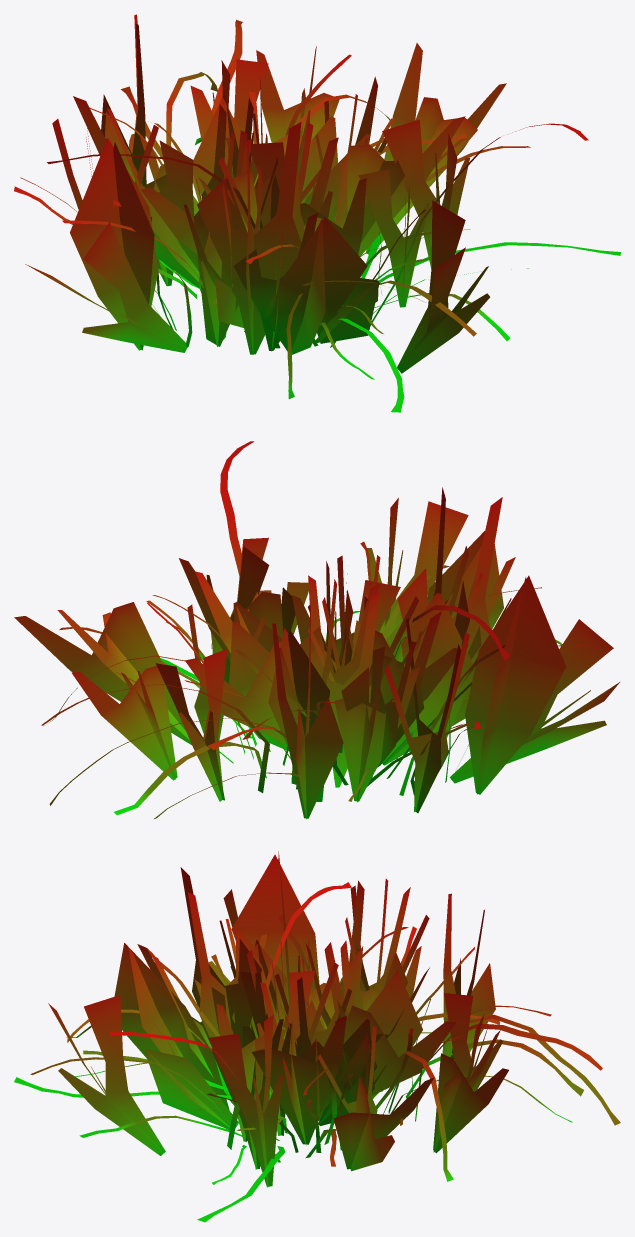
Rendered from Red_Plant_Var_4_LODs.fbx.
3 renders of one model, top to bottom at view 1: azimuth 30°, elevation 25°; view 2: azimuth 150°, elevation 25°; view 3: azimuth 270°, elevation 25°, orthographic. The views are drawn at different scales.
Visible parts, largest first — view 1: Red_Plant_Var_4_LOD_0; view 2: Red_Plant_Var_4_LOD_0; view 3: Red_Plant_Var_4_LOD_0.
Part boxes in pixels (x1,y1,x2,y2): Red_Plant_Var_4_LOD_0: (14, 14, 620, 412); Red_Plant_Var_4_LOD_0: (14, 441, 619, 819); Red_Plant_Var_4_LOD_0: (14, 851, 620, 1222).
Size of what is drawn, in the model's own units: 0.7421 by 0.3364 by 0.8093.
